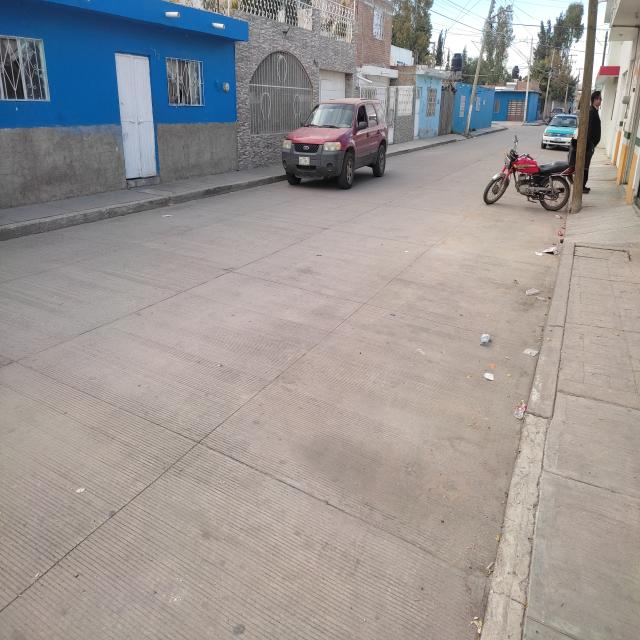3: (568, 78, 614, 204)
Auto: (281, 70, 399, 202), (532, 102, 580, 152)
